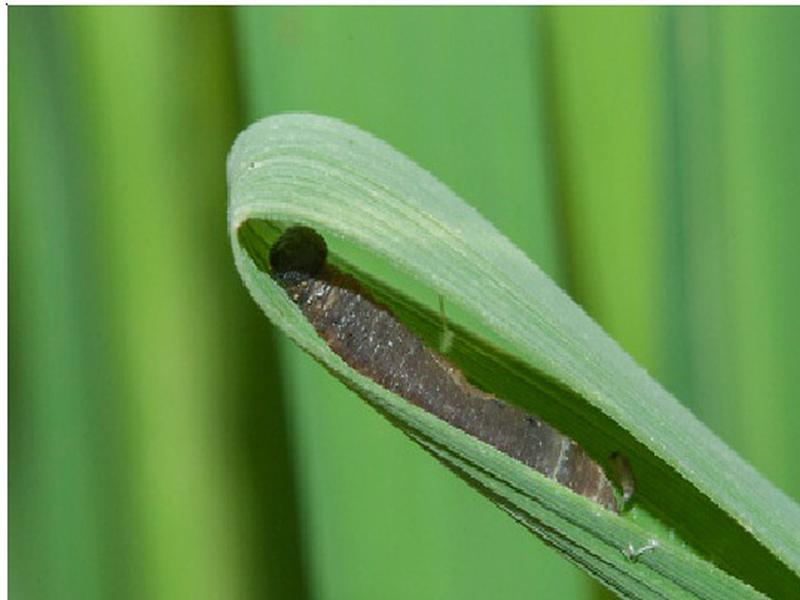Rice_case_worm: (293, 272, 692, 545)
